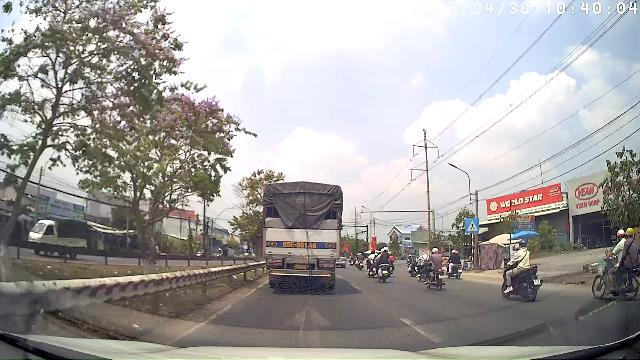423a-duong-nguoi-di-bo-sang-ngang-1: (465, 218, 479, 232)
